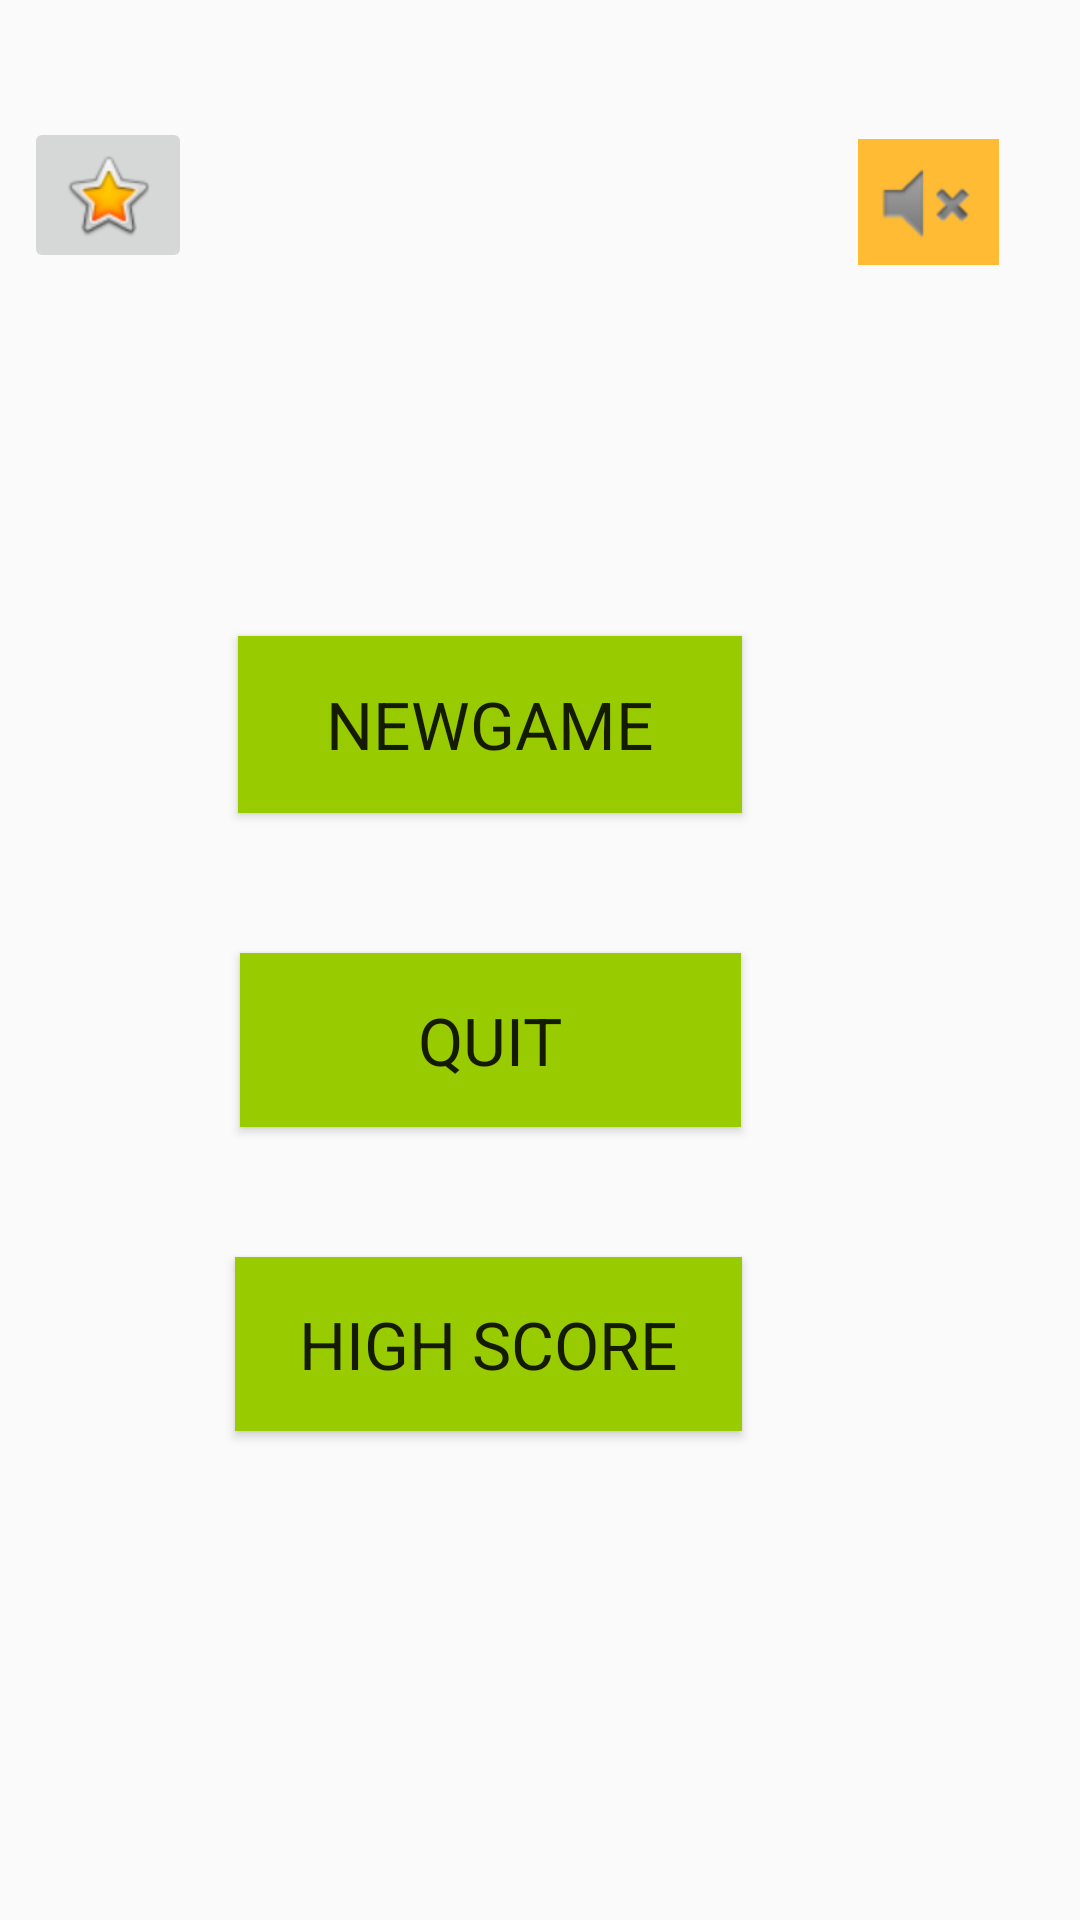

Icons on this 1080*1920 Android screen, each with the point to tap as (x,y):
lock silent mode: (928,202)
star on: (108,195)
